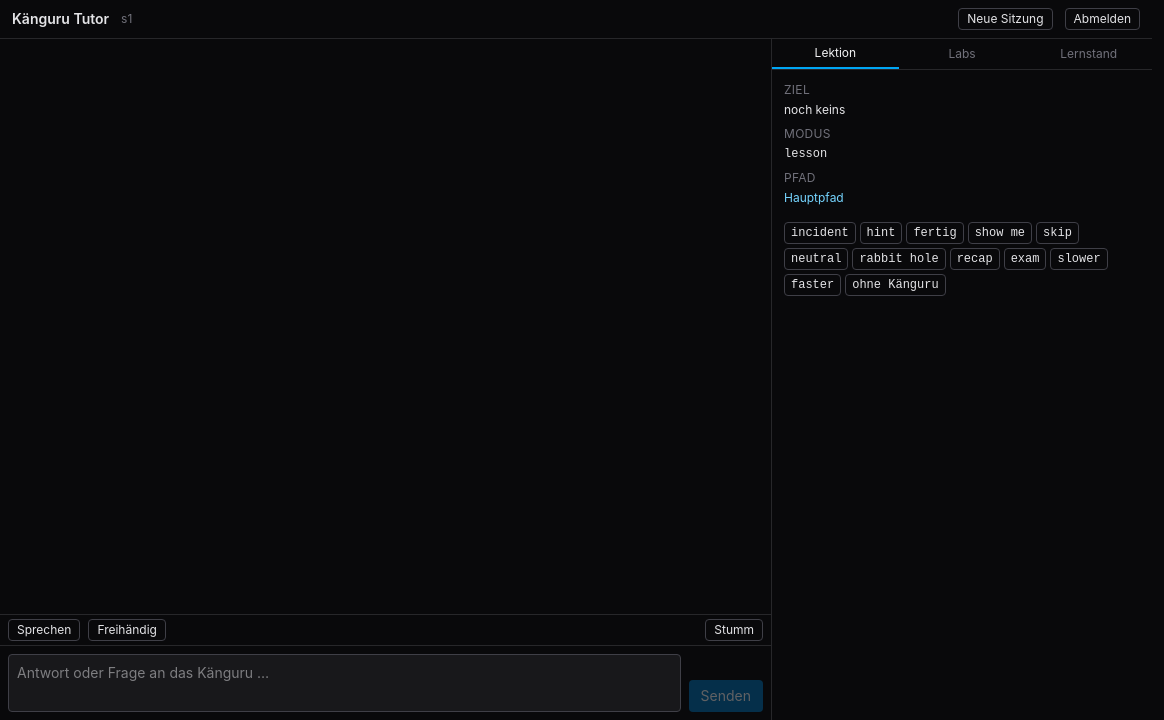
Test: incident: the first incident event opens the incident form with the merged model
This screenshot has width=1164, height=720.
Type "Supabase ist langsam" into the text box labelled "Antwort oder Frage an das Känguru …" at (344, 683), box [8,654,681,712]
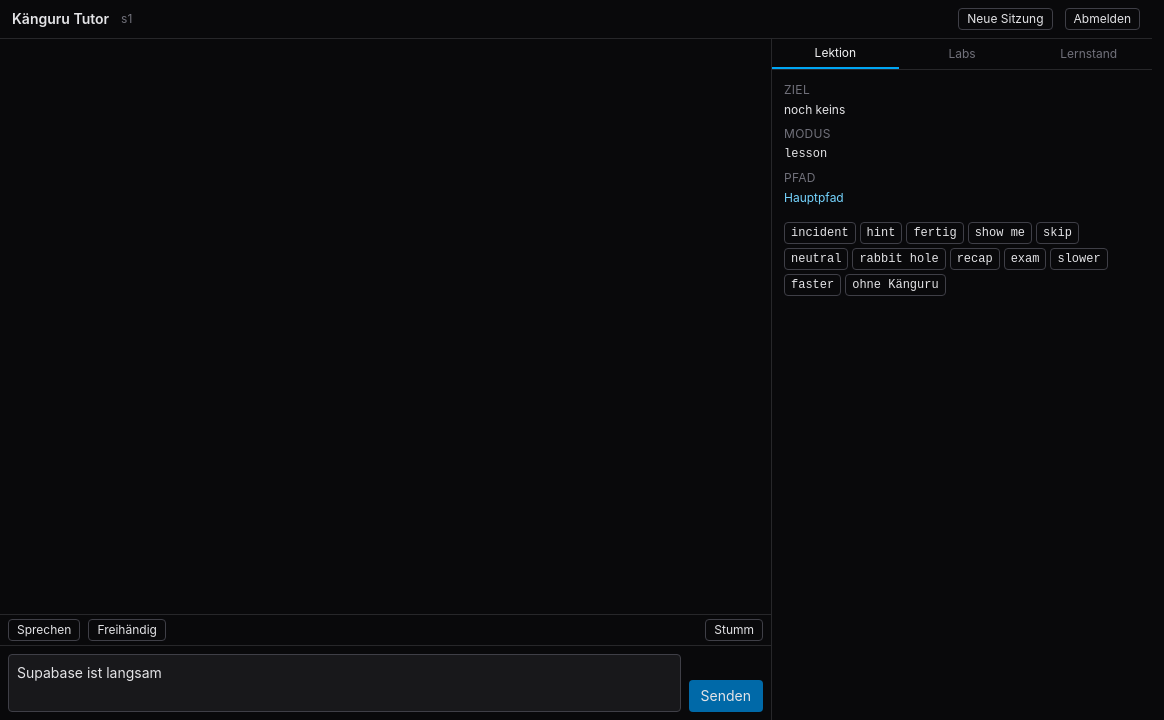
Click the button "Senden" at (726, 696), box [689,680,763,712]
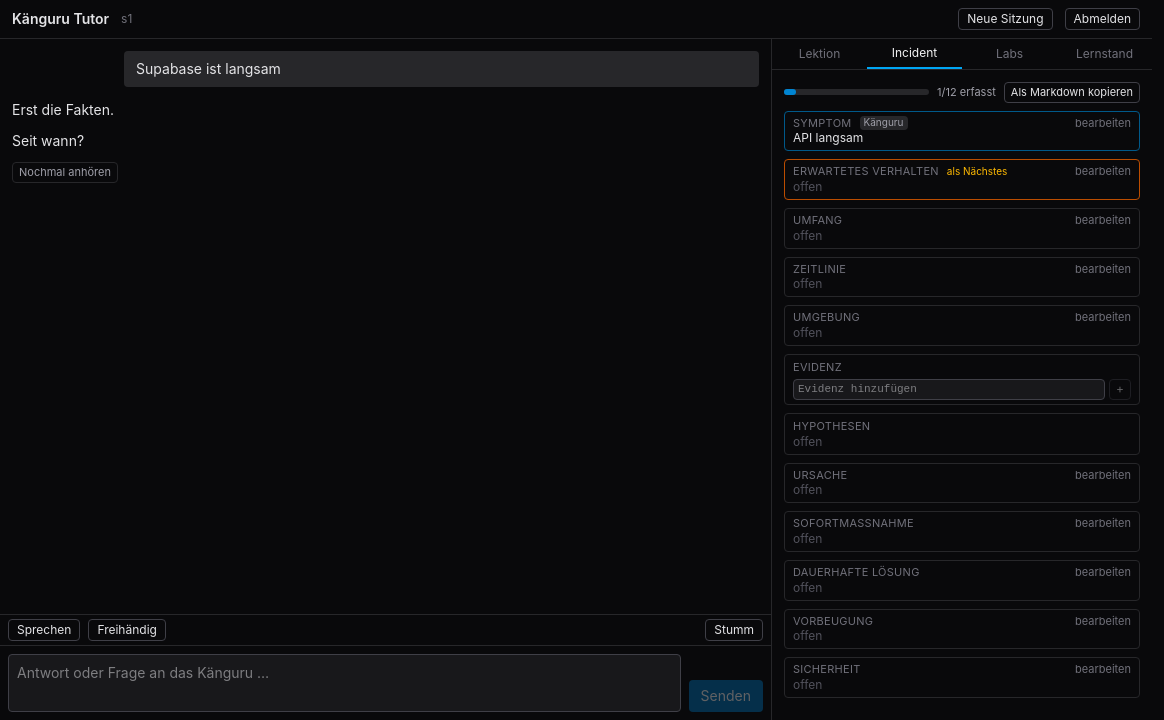
Expected: the text "API langsam" is shown, [793,130,863,145]
Expected: the text "1/12 erfasst" is shown, [937,85,996,100]
